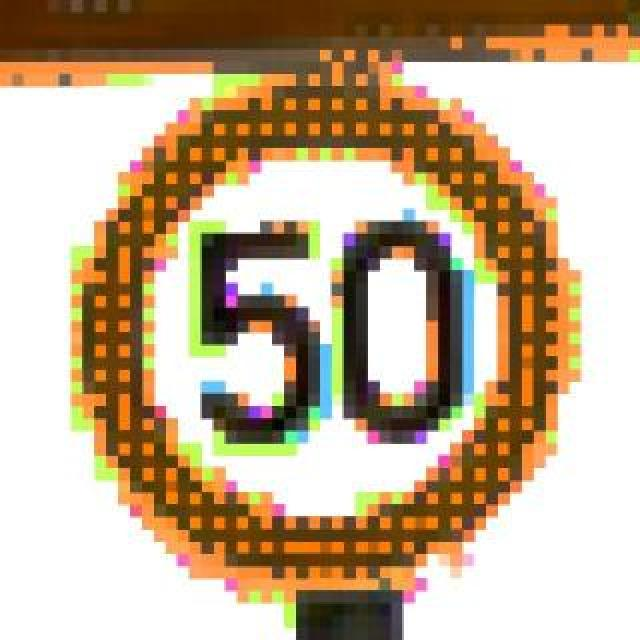50 kph: (72, 62, 546, 566)
